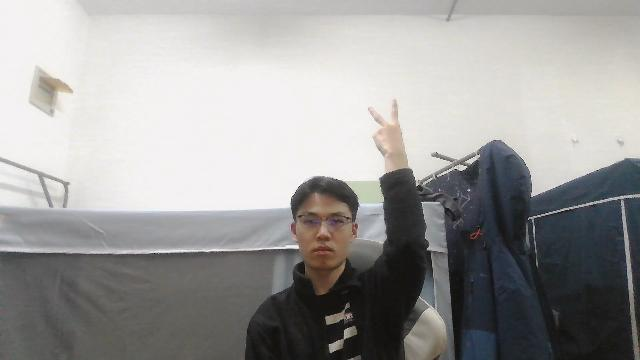yes: (365, 95, 408, 168)
